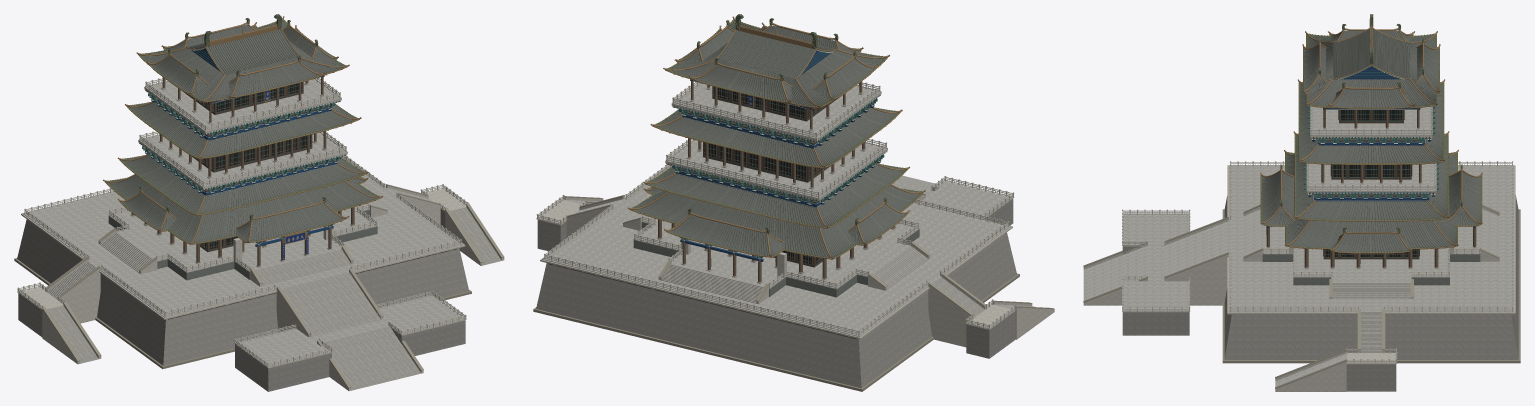
Rendered from guanque-fast.glb.
3 renders of one model, left to right at view 1: azimuth 30°, elevation 25°; view 2: azimuth 150°, elevation 25°; view 3: azimuth 270°, elevation 25°, orthographic. The views are drawn at different scales.
Visible parts, largest first — view 1: 台基与外阶 · 内分三层 · podium · 石材 · 灰石铺地, 台基与外阶 · 内分三层 · podium · 石材 · 暖白石灰石, 台基与外阶 · 内分三层 · podium · 台基 · 灰砖包砌, 下部楼身 · 一至三层 · structure · 筒瓦 · 灰陶细纹, 下部楼身 · 一至三层 · tile · 筒瓦 · 灰陶细纹, 下部楼身 · 一至三层 · structure · 石材 · 灰石铺地, 上部楼身 · 六层与屋顶 · tile · 筒瓦 · 灰陶细纹, 上部楼身 · 六层与屋顶 · structure · 筒瓦 · 灰陶细纹, 下部楼身 · 一至三层 · structure · 石材 · 暖白石灰石, 中部楼身 · 四至五层 · structure · 筒瓦 · 灰陶细纹, 台基与外阶 · 内分三层 · podium · 石材 · 基脚阴线, 中部楼身 · 四至五层 · tile · 筒瓦 · 灰陶细纹 (+27 smaller); view 2: 台基与外阶 · 内分三层 · podium · 台基 · 灰砖包砌, 台基与外阶 · 内分三层 · podium · 石材 · 灰石铺地, 下部楼身 · 一至三层 · structure · 筒瓦 · 灰陶细纹, 台基与外阶 · 内分三层 · podium · 石材 · 暖白石灰石, 下部楼身 · 一至三层 · tile · 筒瓦 · 灰陶细纹, 下部楼身 · 一至三层 · structure · 石材 · 灰石铺地, 上部楼身 · 六层与屋顶 · tile · 筒瓦 · 灰陶细纹, 上部楼身 · 六层与屋顶 · structure · 筒瓦 · 灰陶细纹, 下部楼身 · 一至三层 · structure · 石材 · 暖白石灰石, 中部楼身 · 四至五层 · structure · 筒瓦 · 灰陶细纹, 中部楼身 · 四至五层 · tile · 筒瓦 · 灰陶细纹, 上部楼身 · 六层与屋顶 · structure · 石材 · 灰石铺地 (+27 smaller); view 3: 台基与外阶 · 内分三层 · podium · 石材 · 灰石铺地, 台基与外阶 · 内分三层 · podium · 台基 · 灰砖包砌, 台基与外阶 · 内分三层 · podium · 石材 · 暖白石灰石, 下部楼身 · 一至三层 · structure · 筒瓦 · 灰陶细纹, 下部楼身 · 一至三层 · tile · 筒瓦 · 灰陶细纹, 上部楼身 · 六层与屋顶 · tile · 筒瓦 · 灰陶细纹, 下部楼身 · 一至三层 · structure · 石材 · 灰石铺地, 上部楼身 · 六层与屋顶 · structure · 筒瓦 · 灰陶细纹, 台基与外阶 · 内分三层 · podium · 石材 · 基脚阴线, 中部楼身 · 四至五层 · structure · 筒瓦 · 灰陶细纹, 下部楼身 · 一至三层 · structure · 石材 · 暖白石灰石, 中部楼身 · 四至五层 · tile · 筒瓦 · 灰陶细纹 (+28 smaller).
Boxes of the visible parts, bbox=[...] form: 台基与外阶 · 内分三层 · podium · 石材 · 灰石铺地: bbox=[23, 157, 501, 389]; 台基与外阶 · 内分三层 · podium · 石材 · 暖白石灰石: bbox=[17, 155, 504, 390]; 台基与外阶 · 内分三层 · podium · 台基 · 灰砖包砌: bbox=[17, 209, 468, 391]; 下部楼身 · 一至三层 · structure · 筒瓦 · 灰陶细纹: bbox=[109, 155, 376, 242]; 下部楼身 · 一至三层 · tile · 筒瓦 · 灰陶细纹: bbox=[109, 155, 375, 242]; 下部楼身 · 一至三层 · structure · 石材 · 灰石铺地: bbox=[100, 202, 379, 285]; 上部楼身 · 六层与屋顶 · tile · 筒瓦 · 灰陶细纹: bbox=[144, 22, 341, 100]; 上部楼身 · 六层与屋顶 · structure · 筒瓦 · 灰陶细纹: bbox=[143, 22, 340, 100]; 下部楼身 · 一至三层 · structure · 石材 · 暖白石灰石: bbox=[98, 204, 387, 286]; 中部楼身 · 四至五层 · structure · 筒瓦 · 灰陶细纹: bbox=[130, 102, 354, 157]; 台基与外阶 · 内分三层 · podium · 石材 · 基脚阴线: bbox=[14, 184, 504, 388]; 中部楼身 · 四至五层 · tile · 筒瓦 · 灰陶细纹: bbox=[131, 102, 353, 156]; 台基与外阶 · 内分三层 · podium · 台基 · 灰砖包砌: bbox=[536, 199, 1016, 388]; 台基与外阶 · 内分三层 · podium · 石材 · 灰石铺地: bbox=[542, 165, 1034, 336]; 下部楼身 · 一至三层 · structure · 筒瓦 · 灰陶细纹: bbox=[635, 164, 919, 257]; 台基与外阶 · 内分三层 · podium · 石材 · 暖白石灰石: bbox=[536, 164, 1054, 347]; 下部楼身 · 一至三层 · tile · 筒瓦 · 灰陶细纹: bbox=[635, 164, 918, 257]; 下部楼身 · 一至三层 · structure · 石材 · 灰石铺地: bbox=[631, 214, 928, 302]; 上部楼身 · 六层与屋顶 · tile · 筒瓦 · 灰陶细纹: bbox=[672, 23, 881, 105]; 上部楼身 · 六层与屋顶 · structure · 筒瓦 · 灰陶细纹: bbox=[673, 24, 882, 105]; 下部楼身 · 一至三层 · structure · 石材 · 暖白石灰石: bbox=[623, 216, 930, 304]; 中部楼身 · 四至五层 · structure · 筒瓦 · 灰陶细纹: bbox=[658, 107, 896, 166]; 中部楼身 · 四至五层 · tile · 筒瓦 · 灰陶细纹: bbox=[658, 108, 895, 166]; 上部楼身 · 六层与屋顶 · structure · 石材 · 灰石铺地: bbox=[672, 83, 881, 138]; 台基与外阶 · 内分三层 · podium · 石材 · 灰石铺地: bbox=[1083, 165, 1514, 386]; 台基与外阶 · 内分三层 · podium · 台基 · 灰砖包砌: bbox=[1122, 195, 1518, 391]; 台基与外阶 · 内分三层 · podium · 石材 · 暖白石灰石: bbox=[1083, 161, 1515, 391]; 下部楼身 · 一至三层 · structure · 筒瓦 · 灰陶细纹: bbox=[1263, 136, 1480, 251]; 下部楼身 · 一至三层 · tile · 筒瓦 · 灰陶细纹: bbox=[1263, 136, 1480, 251]; 上部楼身 · 六层与屋顶 · tile · 筒瓦 · 灰陶细纹: bbox=[1305, 29, 1438, 106]; 下部楼身 · 一至三层 · structure · 石材 · 灰石铺地: bbox=[1243, 209, 1499, 298]; 上部楼身 · 六层与屋顶 · structure · 筒瓦 · 灰陶细纹: bbox=[1305, 30, 1438, 107]; 台基与外阶 · 内分三层 · podium · 石材 · 基脚阴线: bbox=[1083, 209, 1520, 388]; 中部楼身 · 四至五层 · structure · 筒瓦 · 灰陶细纹: bbox=[1301, 84, 1441, 162]; 下部楼身 · 一至三层 · structure · 石材 · 暖白石灰石: bbox=[1243, 206, 1499, 298]; 中部楼身 · 四至五层 · tile · 筒瓦 · 灰陶细纹: bbox=[1301, 85, 1441, 162].
Bounding box in the file's own units: 130 × 73.9 × 114.
Materials: 24 (10 with a texture image).
